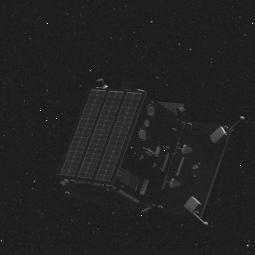proba_2: (58, 101, 239, 214)
